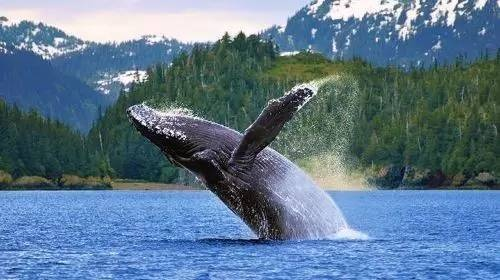fish: (126, 82, 365, 241)
